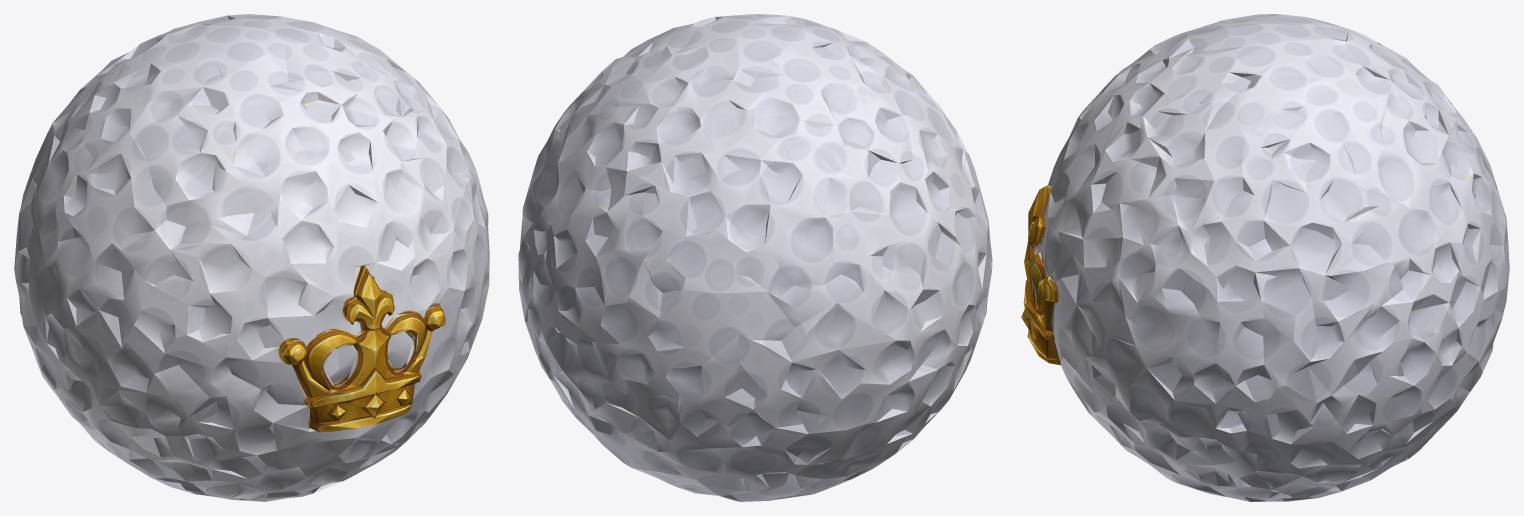
Rendered from golf-ball.glb.
3 renders of one model, left to right at view 1: azimuth 30°, elevation 25°; view 2: azimuth 150°, elevation 25°; view 3: azimuth 270°, elevation 25°, orthographic.
Visible parts, largest first — view 1: output_unwrapped; view 2: output_unwrapped; view 3: output_unwrapped.
Part boxes in pixels (x1,y1,x2,y2): output_unwrapped: (14, 14, 489, 501); output_unwrapped: (518, 14, 992, 501); output_unwrapped: (1021, 14, 1509, 501).
Bounding box in the file's own units: 1.86 × 1.9 × 1.89.
1 material, 1 textured.
